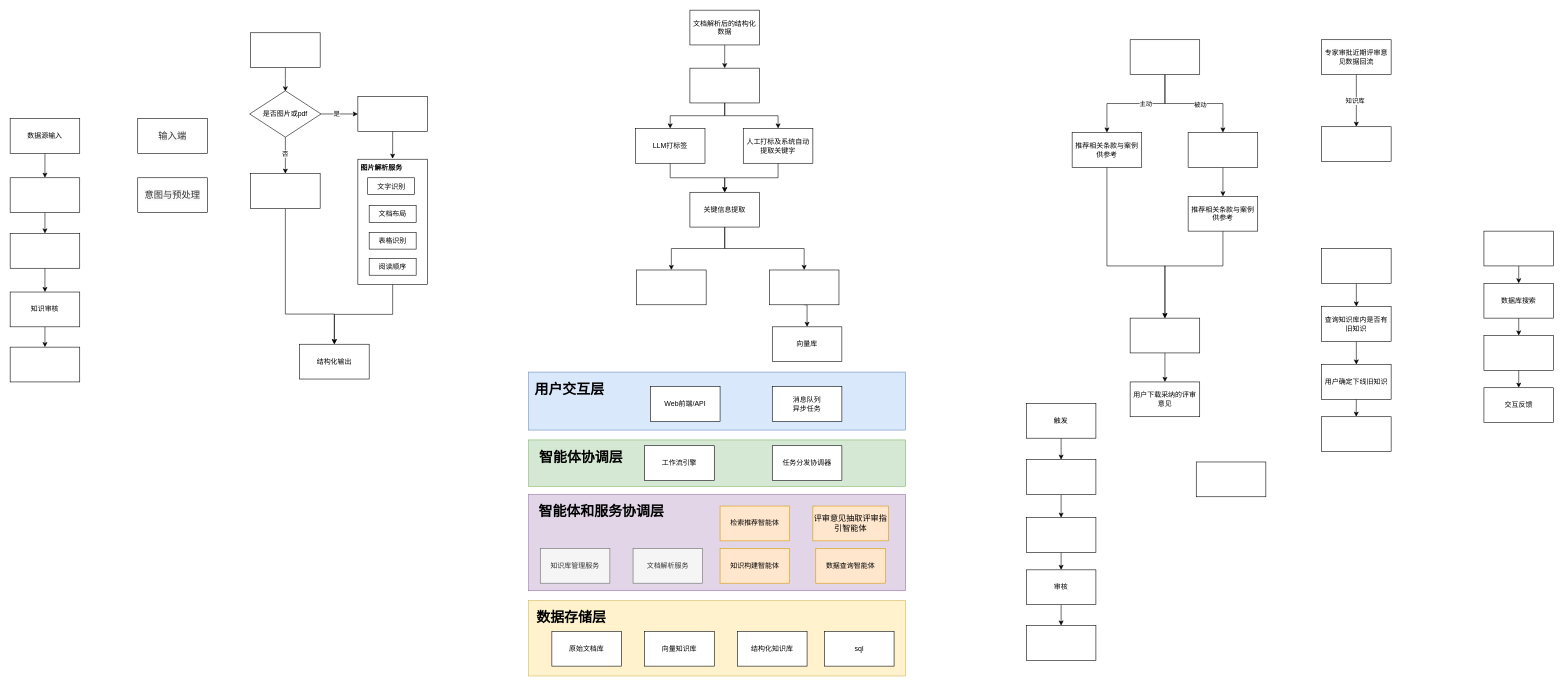
This 1564x686 diagram has some shape labels left out. The centre of each missing label's shape, as x and y in pixels:
docx，pdf，excel，图片等数据: (285,50)
embedding: (804,287)
ES: (671,287)
LLM大模型摘要生成: (1518,352)
pdf转图片: (392,113)
专家审批近期评审意见: (1356,144)
入库: (45,364)
完整性检查及交叉比对验证: (45,250)
抽取: (1061,476)
按文档结构切分获取切片: (724,85)
数据清洗与处理: (45,195)
新内部制度、手册、评审指引: (1356,265)
新知识入库: (1356,434)
更新: (1061,642)
消歧: (1061,534)
用户上传《投后管理方案》: (1165,57)
用户在交互界面提问: (1518,248)
用户提问: (1223,149)
用户确认采纳的评审意见: (1165,335)
直接解析: (285,191)
